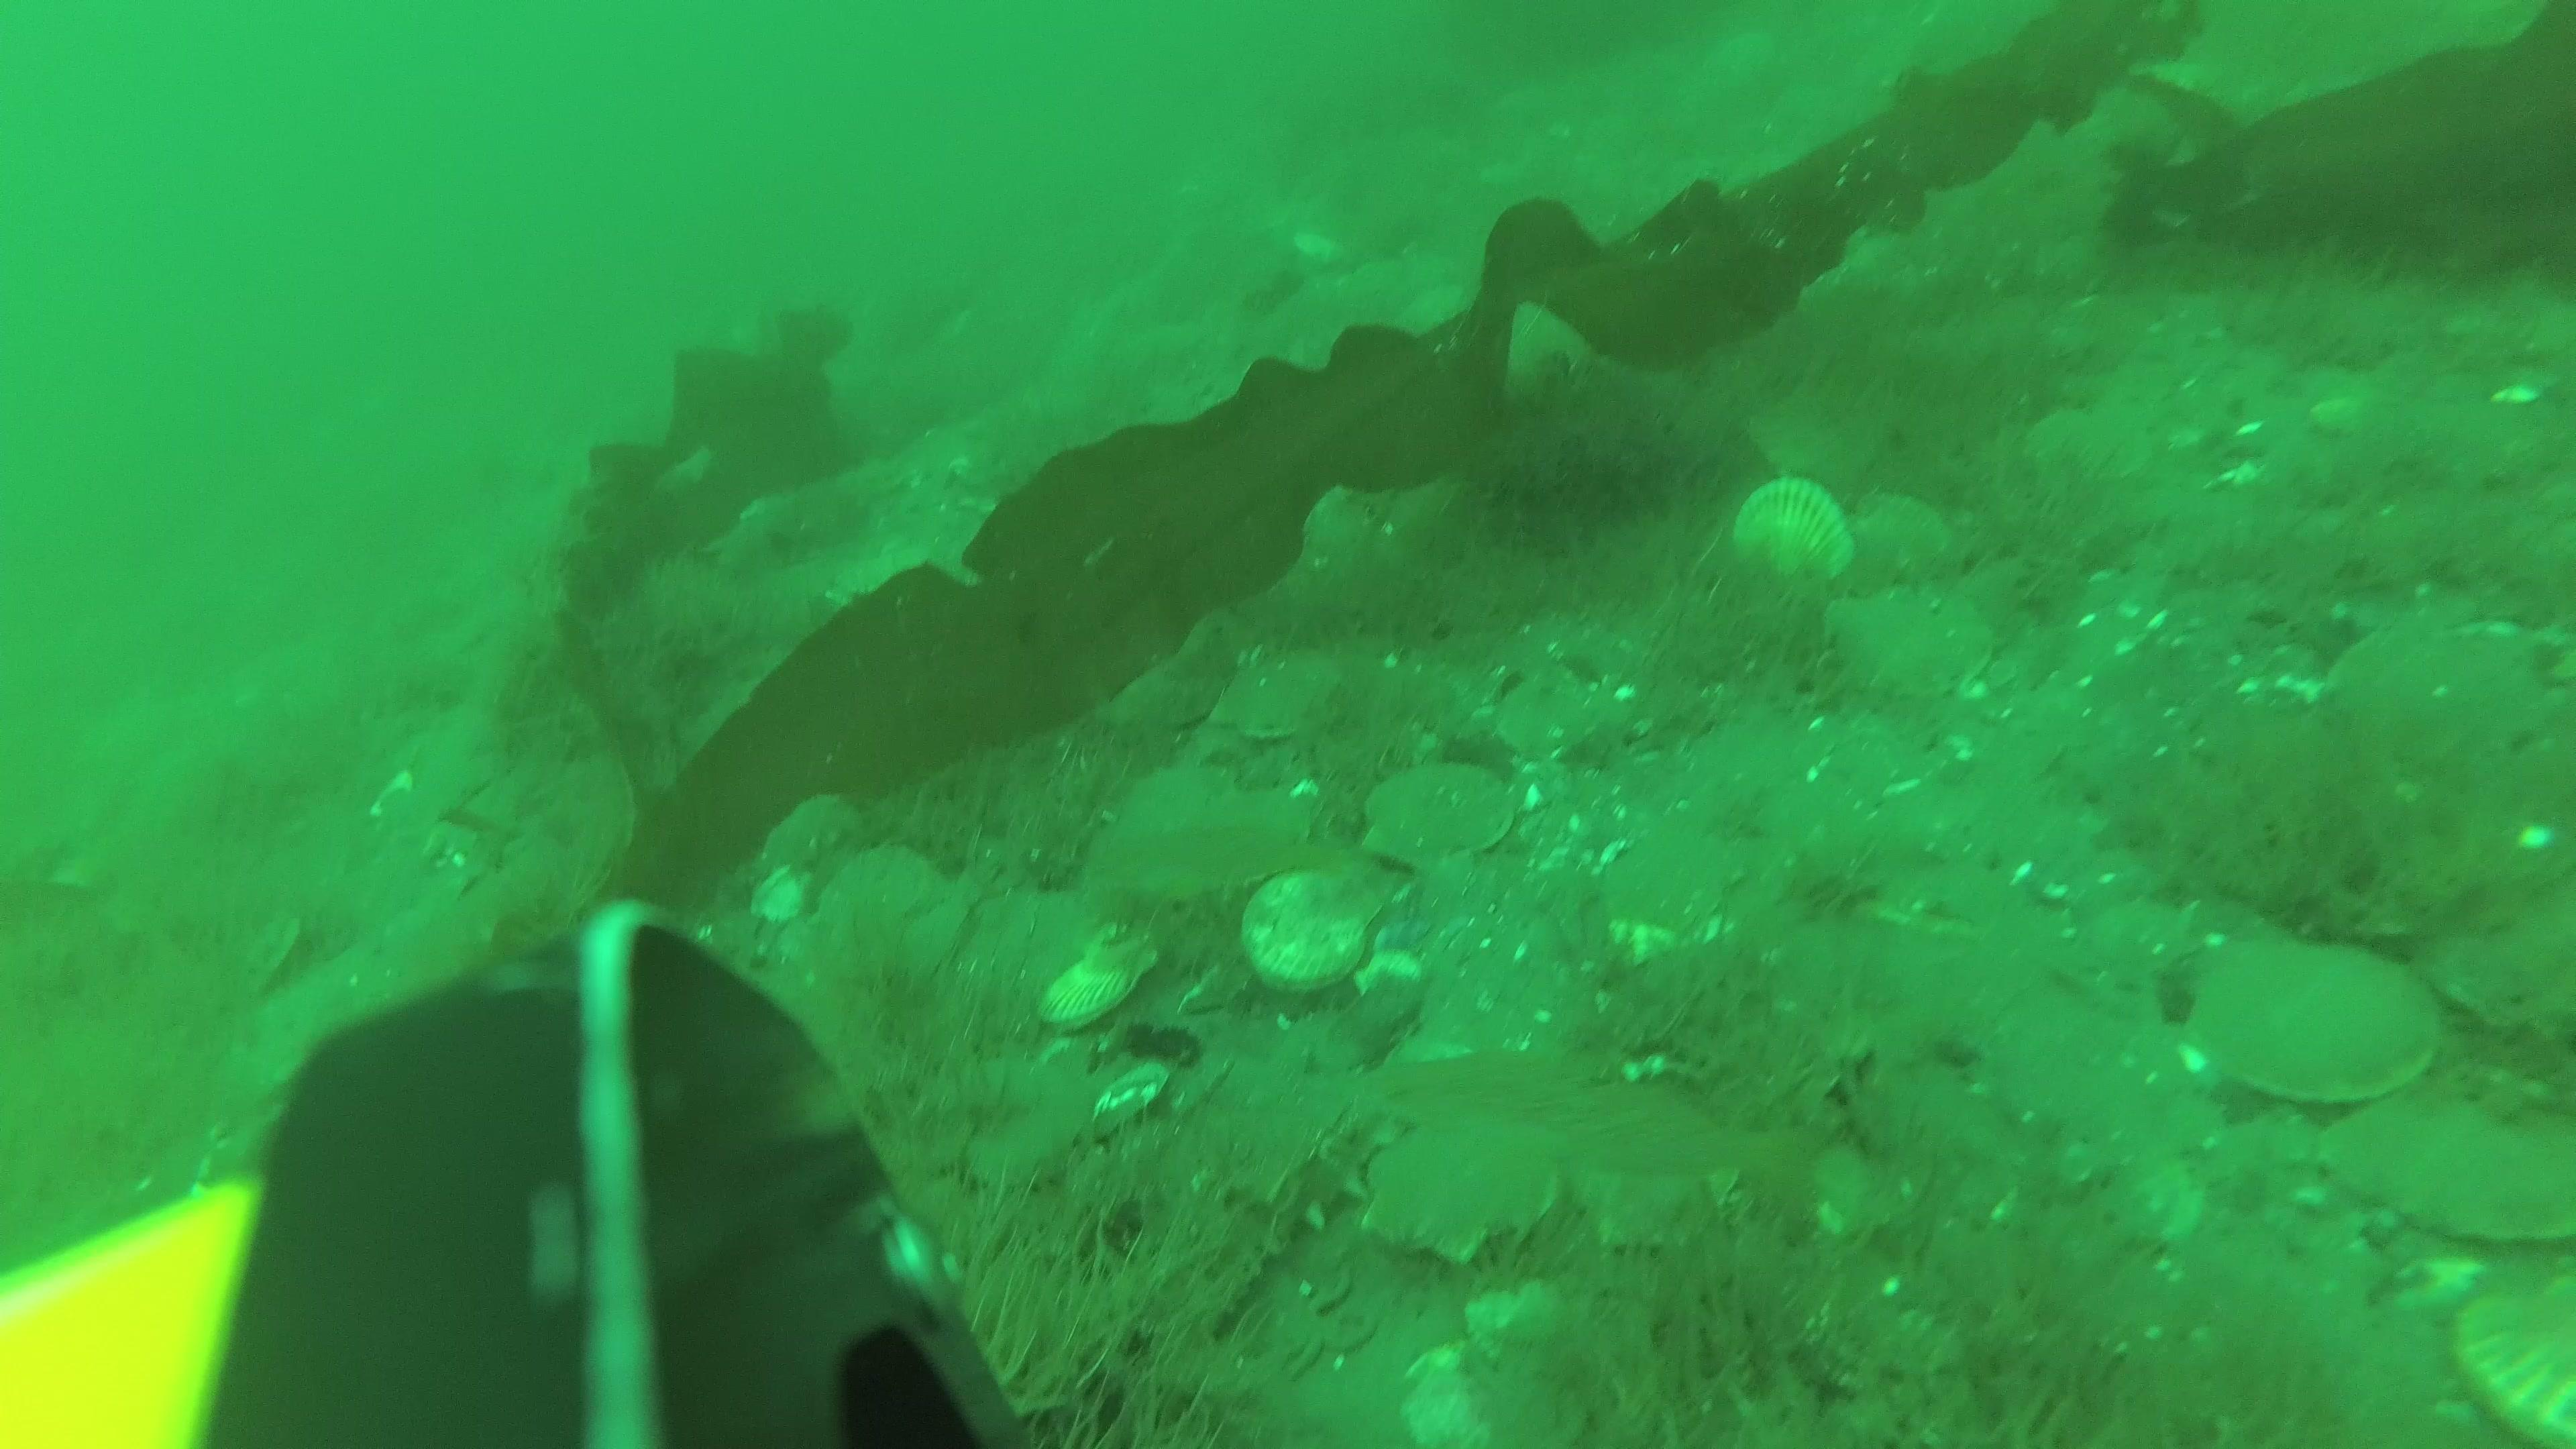holothurian: (1200, 1106, 1394, 1304)
scallop: (2185, 931, 2426, 1108), (2323, 1079, 2576, 1235), (2334, 612, 2528, 752), (1375, 1113, 1557, 1261), (810, 844, 964, 982), (1093, 773, 1254, 904), (1821, 587, 1990, 711), (971, 881, 1108, 1010), (1725, 478, 1859, 607), (1822, 485, 1950, 609), (1366, 763, 1509, 872), (1240, 876, 1378, 982), (1033, 931, 1159, 1028), (1219, 649, 1350, 732), (2029, 402, 2150, 492), (1490, 676, 1603, 768)
